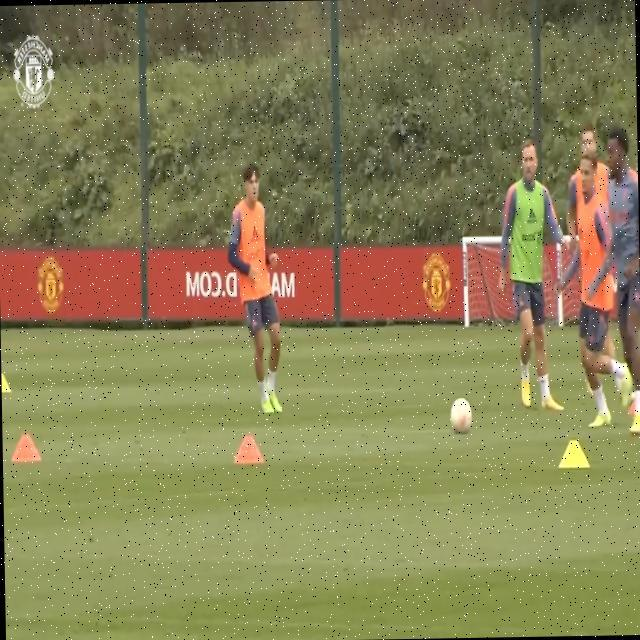Adidas: (524, 205, 538, 225), (248, 225, 261, 245)
